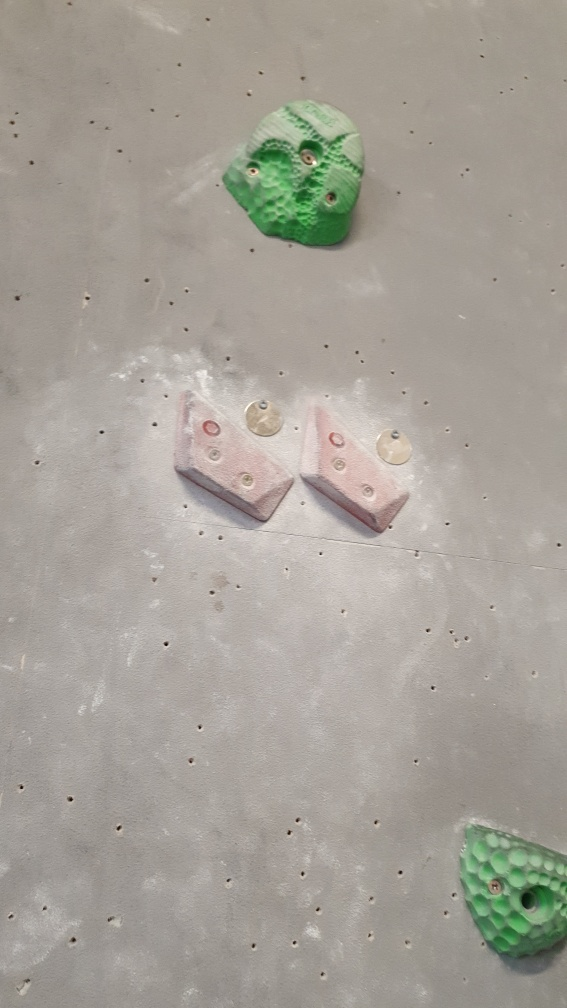Crimp: (175, 385, 299, 525), (296, 394, 411, 533)
Hand Start: (245, 397, 290, 439), (374, 428, 413, 468)
Jug: (218, 96, 372, 252)
